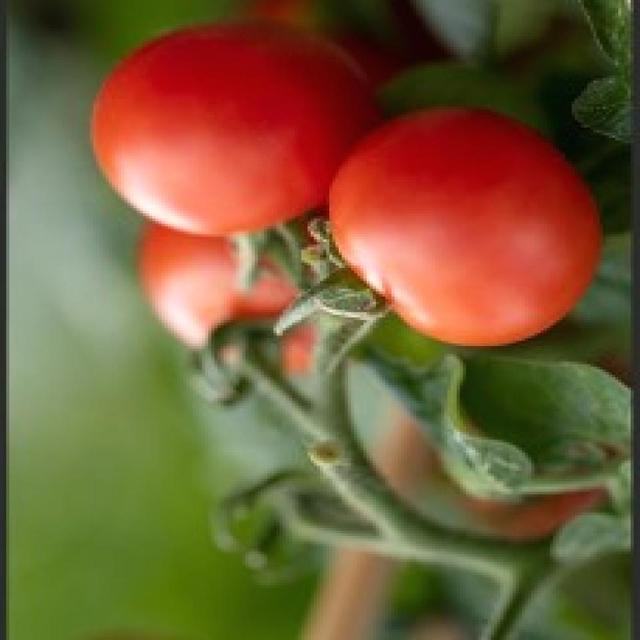Healthy Fruit: (156, 85, 314, 195)
